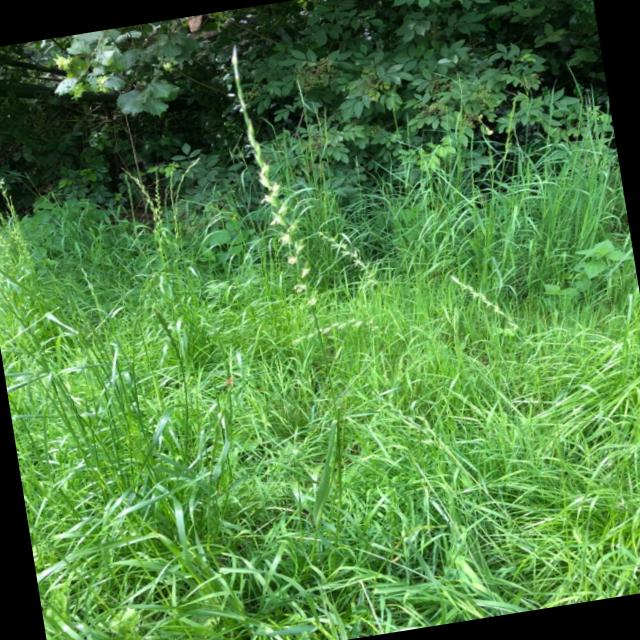Lolium: (217, 39, 344, 320), (458, 270, 544, 362), (122, 165, 163, 238), (149, 168, 172, 234), (174, 156, 204, 186)
